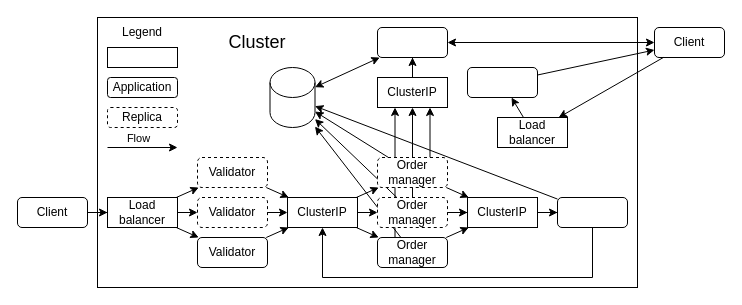
Some shapes in this 742 by 305 pixel diagram are drawn without their labels. Each missing label, with the centre of its shape:
Exchange Dashboard: the point at 502,82
Market Data Publisher: the point at 412,42
Matching Engine: the point at 592,212
MySQL: the point at 292,97
Service: the point at 142,57
